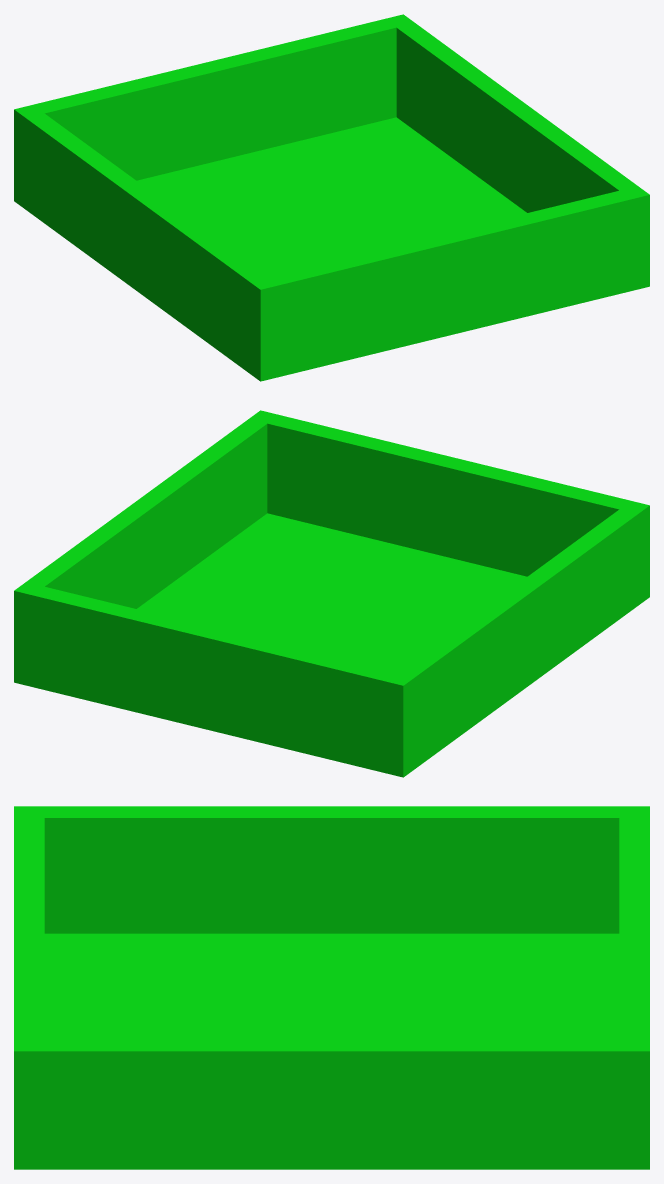
File: Cenario03_salabranca.glb
The picture shows the model from 3 angles, top to bottom: view 1: azimuth 30°, elevation 25°; view 2: azimuth 150°, elevation 25°; view 3: azimuth 270°, elevation 25°; orthographic projection. The views are drawn at different scales.
Parts seen in each view (by area): view 1: Cube; view 2: Cube; view 3: Cube.
Part boxes in pixels (x1,y1,x2,y2): Cube: (14,14,649,381); Cube: (14,410,649,777); Cube: (14,806,649,1169).
Bounding box in the file's own units: 203 × 45.71 × 223.
